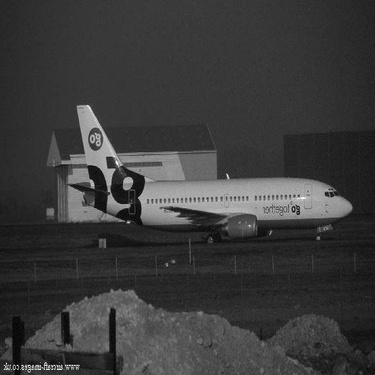airplane: (53, 92, 356, 250)
